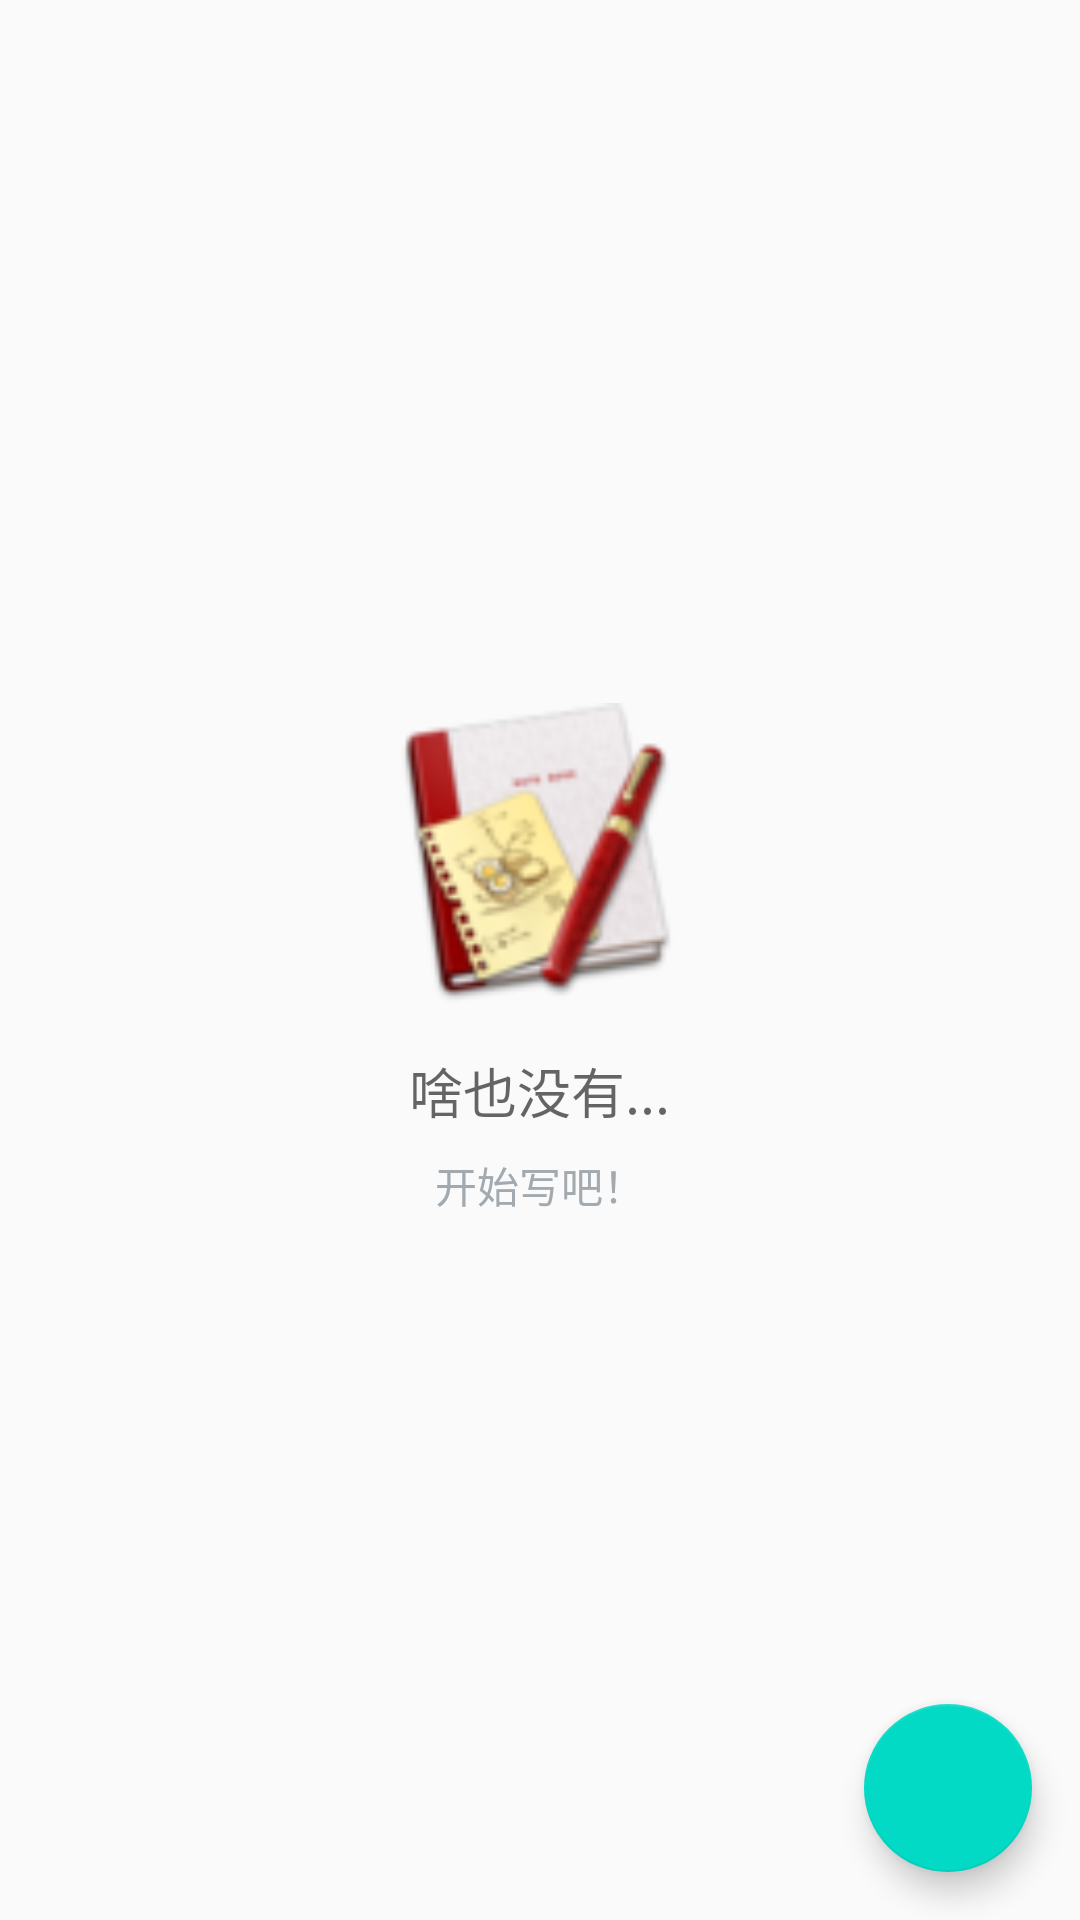

Screen size 1080px x 1920px. Icon name, then its center in pixels as (x,y):
notebook: (537,853)
